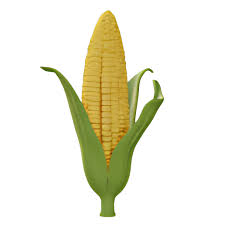tomate: (54, 11, 170, 217)
